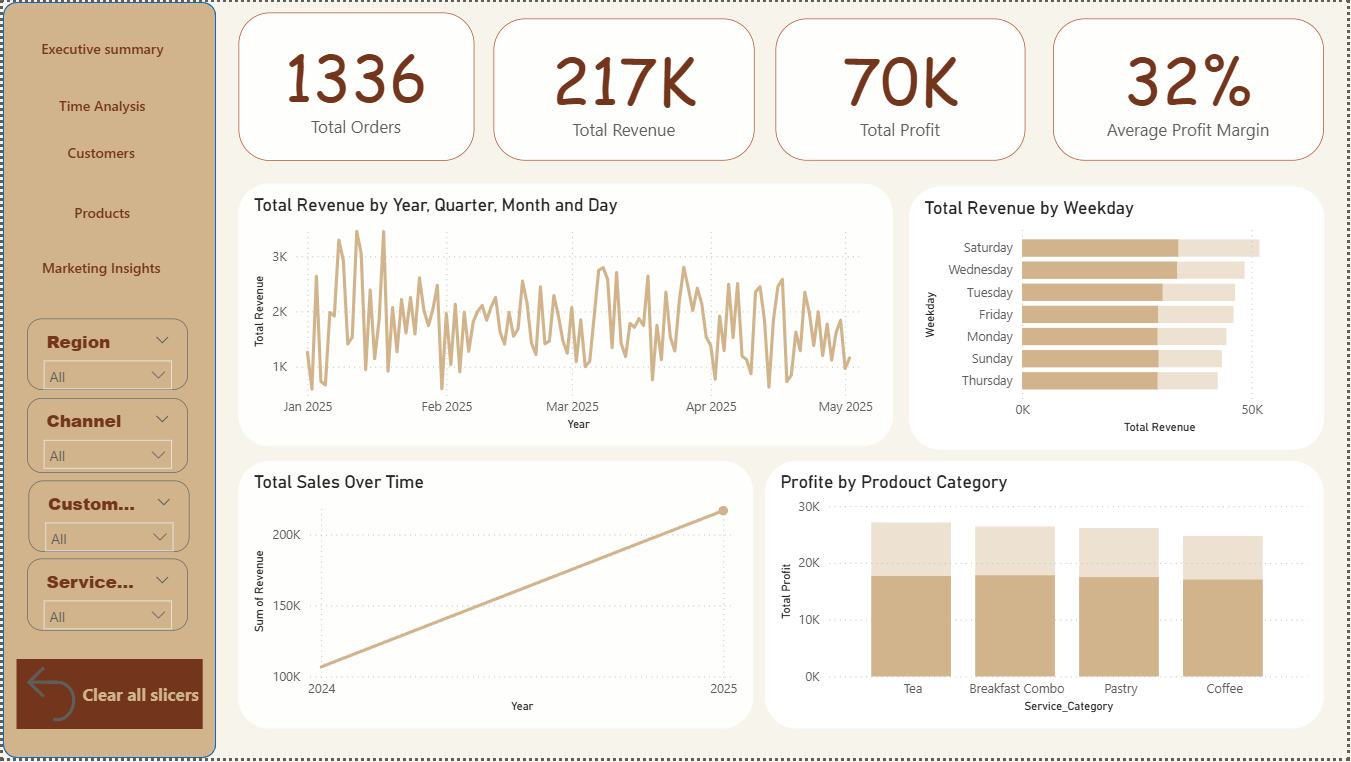

What the dashboard file says about the page in this screenshot:
{"tool":"powerbi","page":{"name":"Page 2","canvas":[1280,720],"ordinal":1},"visuals":[{"type":"shape","box":[0,0,203,720],"z":0},{"type":"card","fields":{"Values":["Sheet1.Total Revenue"]},"box":[466.7,15.6,248.9,135.6],"z":1000},{"type":"card","fields":{"Values":["Sheet1.Total Profit"]},"box":[735.6,15.6,237.8,135.6],"z":2000},{"type":"card","fields":{"Values":["Sheet1.Total Orders"]},"box":[224.4,10,224.4,141.1],"z":3000},{"type":"card","fields":{"Values":["Sheet1.Average Profit Margin"]},"box":[1000,15.6,257.8,135.6],"z":4000},{"type":"lineChart","fields":{"Y":["Sheet1.Total Revenue"],"Category":["Sheet1.Date.Variation.Date Hierarchy.Year","Sheet1.Date.Variation.Date Hierarchy.Quarter","Sheet1.Date.Variation.Date Hierarchy.Month","Sheet1.Date.Variation.Date Hierarchy.Day"]},"box":[224.4,172.2,623.3,250],"z":5000},{"type":"barChart","fields":{"Y":["Sheet1.Total Revenue"],"Category":["Sheet1.Weekday"]},"box":[862.4,175.8,395.2,250.4],"z":6000},{"type":"lineChart","title":"Total Sales Over Time ","fields":{"Category":["Sheet1.Date.Variation.Date Hierarchy.Year","Sheet1.Date.Variation.Date Hierarchy.Quarter","Sheet1.Date.Variation.Date Hierarchy.Month","Sheet1.Date.Variation.Date Hierarchy.Day"],"Y":["Sum(Sheet1.Revenue)"]},"box":[224.4,436.7,490,254.4],"z":7000},{"type":"columnChart","title":"Profite by Prodouct Category","fields":{"Category":["Sheet1.Service_Category"],"Y":["Sheet1.Total Profit"]},"box":[725.6,436.7,532.2,254.4],"z":8000},{"type":"slicer","fields":{"Values":["Sheet1.Region"]},"box":[23.3,301.1,153.3,67.8],"z":9000,"group":"g3"},{"type":"group","id":"g1","title":"Group 1","box":[23.3,301.1,154.4,297.8],"z":10000},{"type":"slicer","fields":{"Values":["Sheet1.Channel"]},"box":[23.3,376.7,153.3,71.1],"z":10000,"group":"g3"},{"type":"group","id":"g2","title":"Group 3","box":[11,15.6,165.7,257.4],"z":11000},{"type":"slicer","fields":{"Values":["Sheet1.Customer_Type"]},"box":[24.4,455.5,153.3,67.8],"z":11000,"group":"g3"},{"type":"actionButton","box":[12.2,625.1,177.6,66.4],"z":11500},{"type":"slicer","fields":{"Values":["Sheet1.Service_Category"]},"box":[23.3,530,153.3,68.9],"z":12000,"group":"g3"},{"type":"actionButton","box":[12.2,15.6,164.4,57.8],"z":14000,"group":"g2"},{"type":"actionButton","box":[21.1,73.4,146.7,50],"z":15000,"group":"g2"},{"type":"actionButton","box":[30,123.4,127.8,40],"z":16000,"group":"g2"},{"type":"actionButton","box":[21.1,180,146.7,40],"z":17000,"group":"g2"},{"type":"actionButton","box":[11,233,165,40],"z":18000,"group":"g2"},{"type":"group","id":"g3","title":"Group 2","box":[23.3,301.1,154.4,297.8],"z":18002,"group":"g1"}]}

Visuals, with their boxes in screenshot pixels (x1, y1, x2, y2), scaled from the page's 1280x720 canvas onto the 1351x762 screenshot:
shape: <region>0, 0, 214, 761</region>
card - Sheet1.Total Revenue: <region>493, 17, 755, 160</region>
card - Sheet1.Total Profit: <region>776, 17, 1027, 160</region>
card - Sheet1.Total Orders: <region>237, 11, 474, 160</region>
card - Sheet1.Average Profit Margin: <region>1055, 17, 1328, 160</region>
lineChart - Sheet1.Total Revenue x Sheet1.Date.Variation.Date Hierarchy.Year: <region>237, 182, 895, 447</region>
barChart - Sheet1.Total Revenue x Sheet1.Weekday: <region>910, 186, 1327, 451</region>
"Total Sales Over Time " lineChart: <region>237, 462, 754, 731</region>
"Profite by Prodouct Category" columnChart: <region>766, 462, 1328, 731</region>
slicer - Sheet1.Region: <region>25, 319, 186, 390</region>
"Group 1" group: <region>25, 319, 188, 634</region>
slicer - Sheet1.Channel: <region>25, 399, 186, 474</region>
"Group 3" group: <region>12, 17, 187, 289</region>
slicer - Sheet1.Customer_Type: <region>26, 482, 188, 554</region>
actionButton: <region>13, 662, 200, 732</region>
slicer - Sheet1.Service_Category: <region>25, 561, 186, 634</region>
actionButton: <region>13, 17, 186, 78</region>
actionButton: <region>22, 78, 177, 131</region>
actionButton: <region>32, 131, 167, 173</region>
actionButton: <region>22, 190, 177, 233</region>
actionButton: <region>12, 247, 186, 289</region>
"Group 2" group: <region>25, 319, 188, 634</region>
